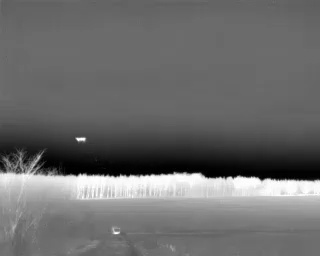DRONE: (71, 132, 91, 148)
